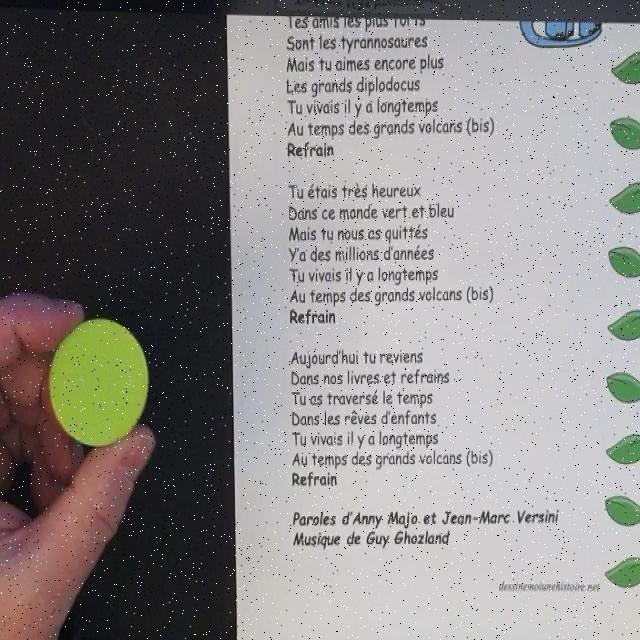round: (49, 318, 150, 448)
